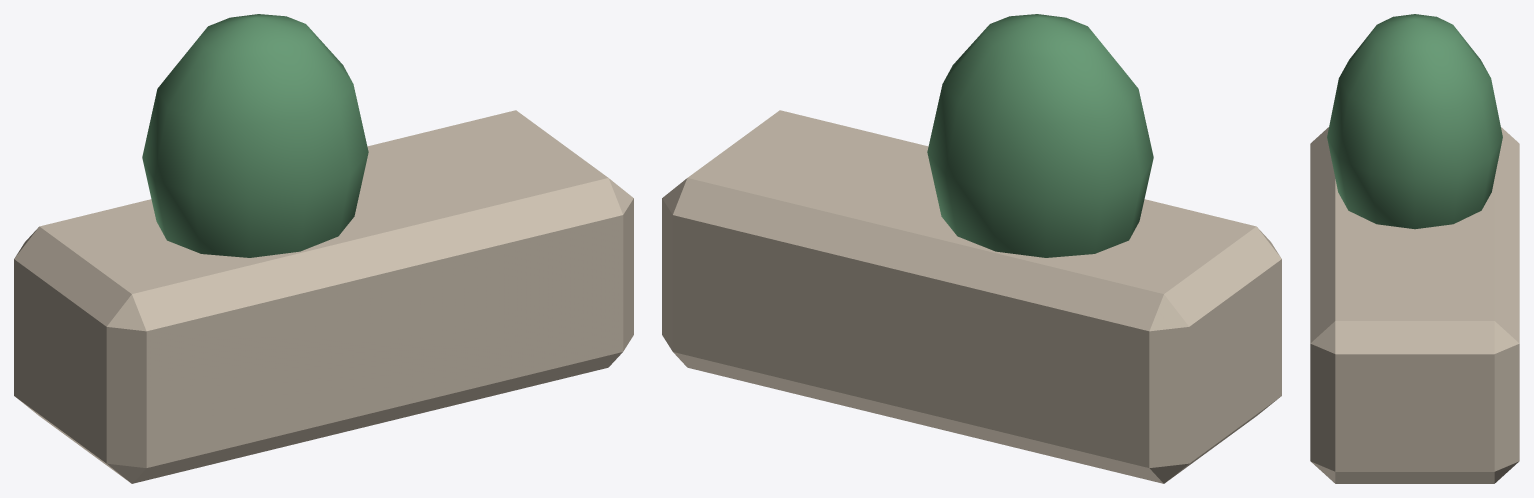
3 views of the same model, side by side, from view 1: azimuth 30°, elevation 25°; view 2: azimuth 150°, elevation 25°; view 3: azimuth 270°, elevation 25° (orthographic). The views are drawn at different scales.
Visible parts, largest first — view 1: LOD2_PLANTER_RECT_Pot, LOD2_PLANTER_RECT_Crown_01; view 2: LOD2_PLANTER_RECT_Pot, LOD2_PLANTER_RECT_Crown_01; view 3: LOD2_PLANTER_RECT_Pot, LOD2_PLANTER_RECT_Crown_01.
Part boxes in pixels (x1,y1,x2,y2): LOD2_PLANTER_RECT_Pot: [14, 110, 633, 483]; LOD2_PLANTER_RECT_Crown_01: [142, 14, 368, 257]; LOD2_PLANTER_RECT_Pot: [662, 110, 1281, 483]; LOD2_PLANTER_RECT_Crown_01: [927, 14, 1153, 257]; LOD2_PLANTER_RECT_Pot: [1310, 127, 1519, 483]; LOD2_PLANTER_RECT_Crown_01: [1327, 14, 1502, 229].
Size of what is drawn, in the model's own units: 2.5 by 1.77 by 1.
